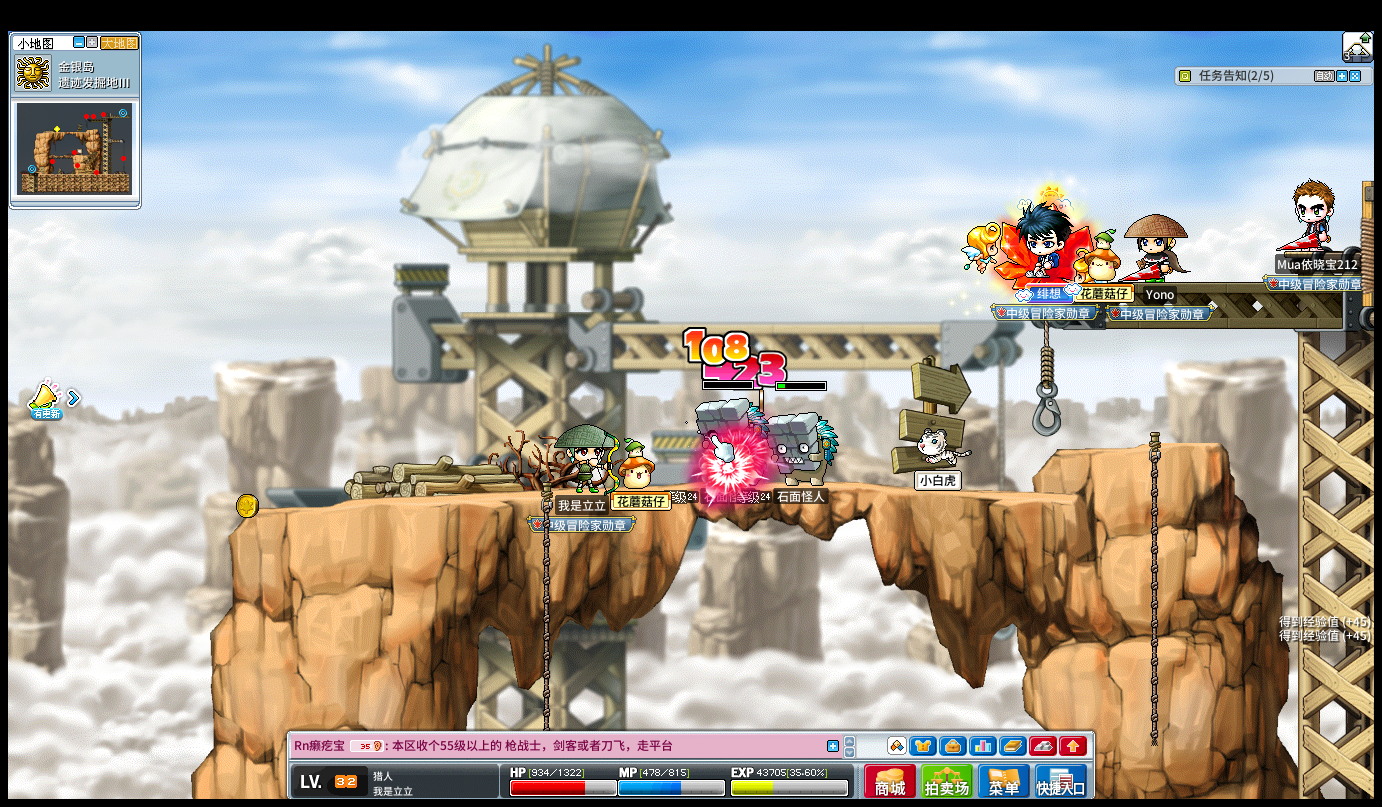floor: (207, 475, 1176, 502), (1053, 437, 1225, 453), (1052, 440, 1229, 455)
monster: (693, 397, 763, 483), (771, 411, 839, 483), (693, 397, 763, 446)
rope: (1145, 426, 1161, 751), (539, 480, 551, 704)
